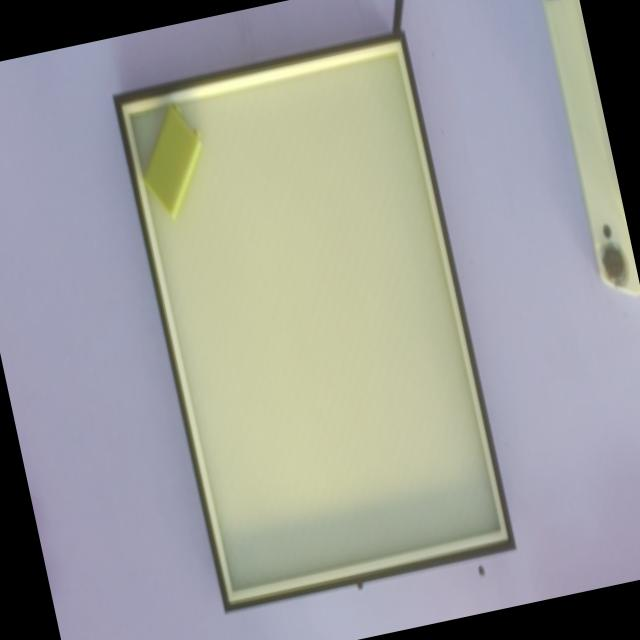bateria: (141, 98, 202, 218)
mesa: (112, 29, 516, 612)
